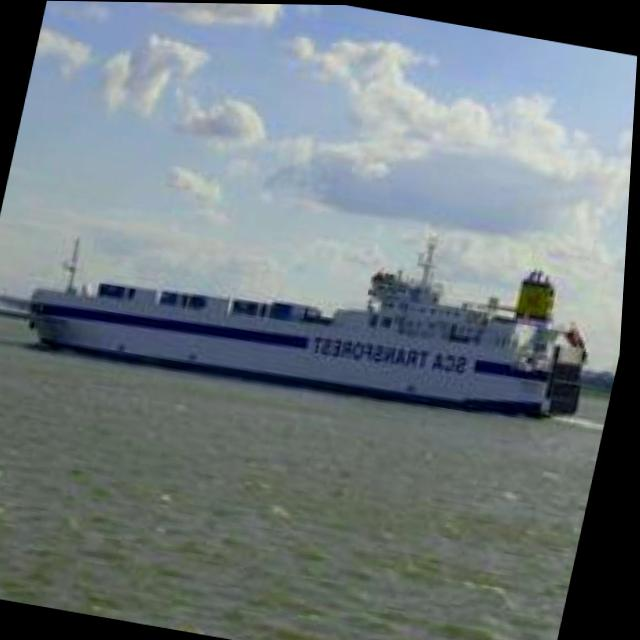ship2: (32, 238, 591, 418)
